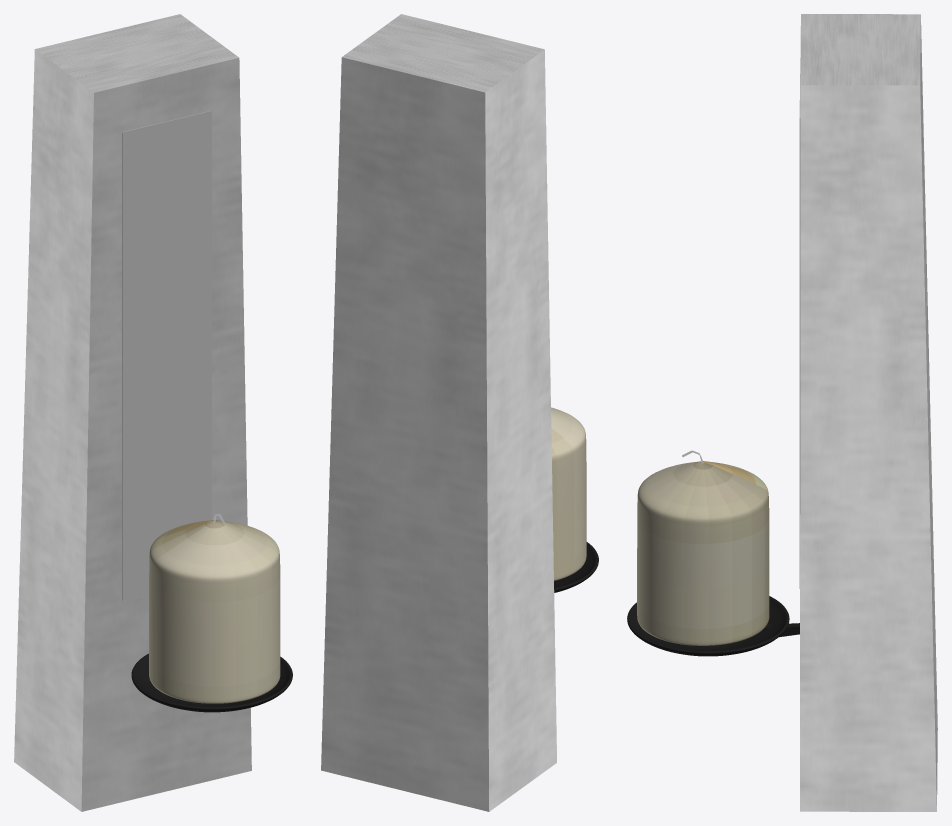
Rendered from candleOrnament.obj.
The picture shows the model from 3 angles, left to right: view 1: azimuth 30°, elevation 25°; view 2: azimuth 150°, elevation 25°; view 3: azimuth 270°, elevation 25°; orthographic projection.
Visible parts, largest first — view 1: CandleOrnament_1, CandleOrnament_4, CandleOrnament_2, CandleOrnament_3; view 2: CandleOrnament_1, CandleOrnament_2, CandleOrnament_3; view 3: CandleOrnament_1, CandleOrnament_2, CandleOrnament_3, CandleOrnament_4.
Boxes of the visible parts, <box> form: CandleOrnament_1: <box>14,14,251,811</box>; CandleOrnament_4: <box>122,110,211,600</box>; CandleOrnament_2: <box>149,520,280,703</box>; CandleOrnament_3: <box>131,653,292,712</box>; CandleOrnament_1: <box>321,14,556,811</box>; CandleOrnament_2: <box>551,407,586,580</box>; CandleOrnament_3: <box>554,542,598,592</box>; CandleOrnament_1: <box>800,14,937,811</box>; CandleOrnament_2: <box>637,461,769,645</box>; CandleOrnament_3: <box>627,596,789,656</box>; CandleOrnament_4: <box>799,74,800,588</box>.
Size of the model in its own units: 7.96 by 31.94 by 12.49.
Materials: 5 (2 with a texture image).
